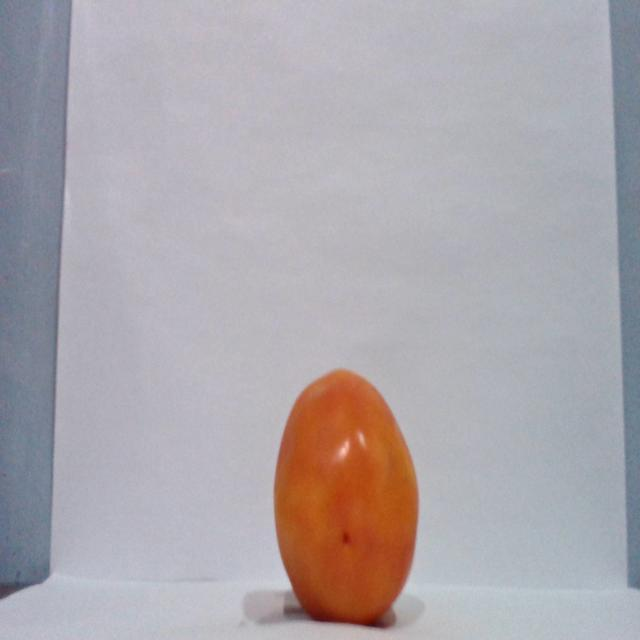Red: (271, 366, 420, 625)
